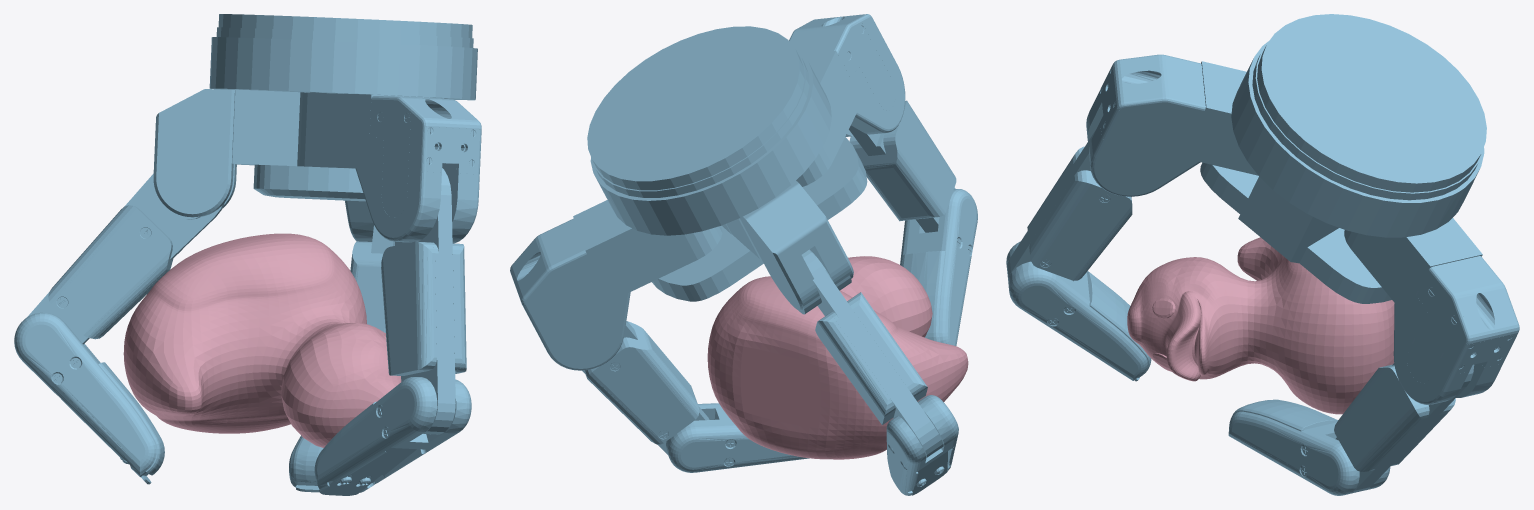
Rendered from Barrett_contactdb+rubber_duck_mesh.glb.
3 views of the same model, side by side, from view 1: azimuth 30°, elevation 25°; view 2: azimuth 150°, elevation 25°; view 3: azimuth 270°, elevation 25° (orthographic). The views are drawn at different scales.
Parts seen in each view (by area): view 1: world; view 2: world; view 3: world.
Part boxes in pixels (x1,y1,x2,y2): world: [14, 14, 481, 495]; world: [510, 14, 977, 495]; world: [1006, 14, 1519, 495].
Size of the model in its own units: 0.1776 by 0.1687 by 0.1811.
